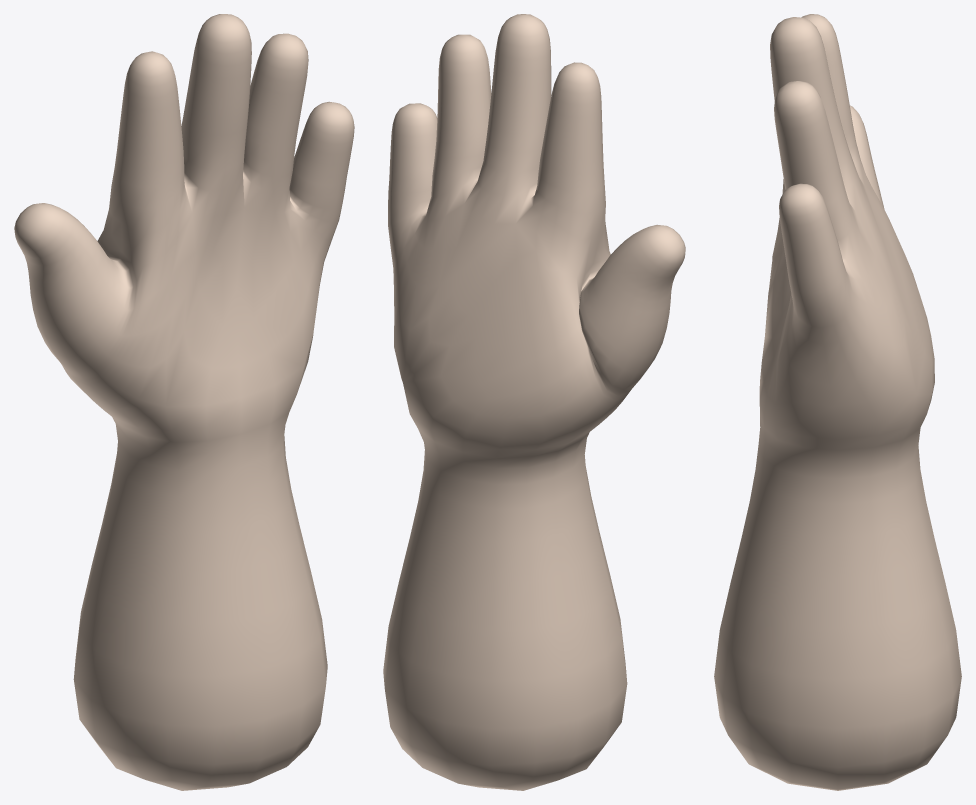
Rendered from Hand-Paper.fbx.
3 renders of one model, left to right at view 1: azimuth 30°, elevation 25°; view 2: azimuth 150°, elevation 25°; view 3: azimuth 270°, elevation 25°, orthographic. The views are drawn at different scales.
Parts seen in each view (by area): view 1: hand2.001; view 2: hand2.001; view 3: hand2.001.
Part boxes in pixels (box(x1,y1,x2,y2)): hand2.001: box(14, 14, 354, 790); hand2.001: box(383, 14, 685, 790); hand2.001: box(714, 14, 961, 790).
Size of the model in its own units: 66.21 by 155 by 46.07.
